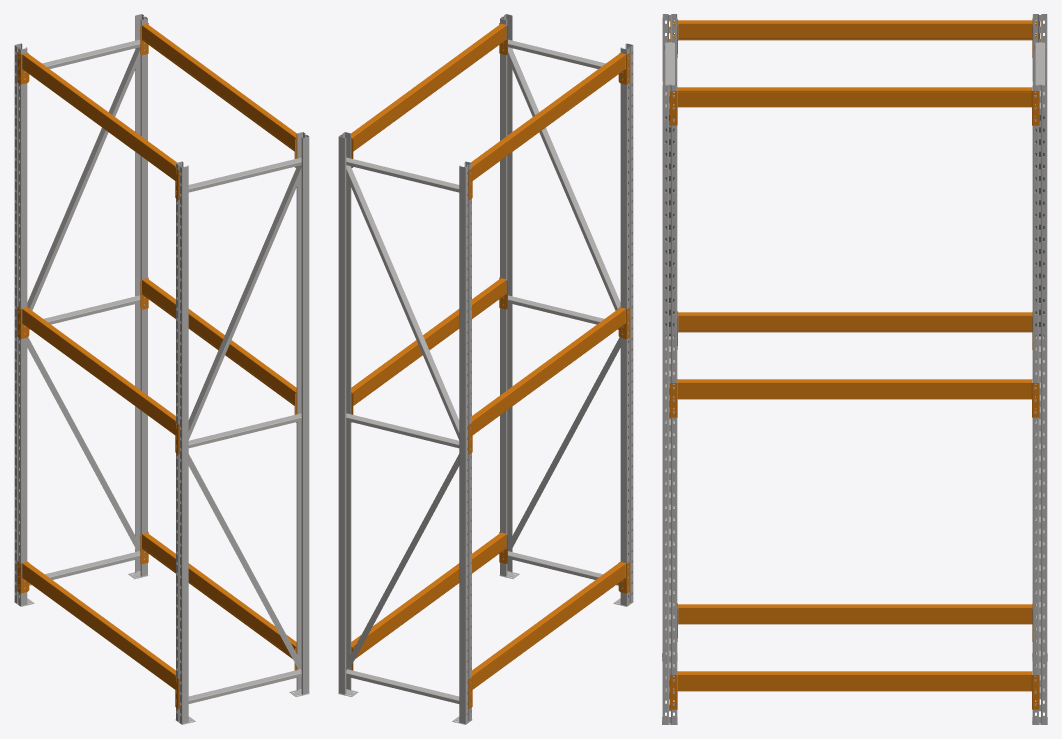
Rendered from pallet-racking.glb.
3 renders of one model, left to right at view 1: azimuth 30°, elevation 25°; view 2: azimuth 150°, elevation 25°; view 3: azimuth 270°, elevation 25°, orthographic. The views are drawn at different scales.
Visible parts, largest first — view 1: Weld, Solid1; view 2: Weld, Solid1; view 3: Solid1, Weld.
Part boxes in pixels (box(x1,y1,x2,y2)): Weld: box(14, 14, 309, 724); Solid1: box(17, 23, 296, 708); Weld: box(338, 14, 633, 724); Solid1: box(351, 23, 630, 708); Solid1: box(669, 19, 1040, 709); Weld: box(662, 14, 1047, 724).
Bounding box in the file's own units: 0.9582 × 3.98 × 2.18.
